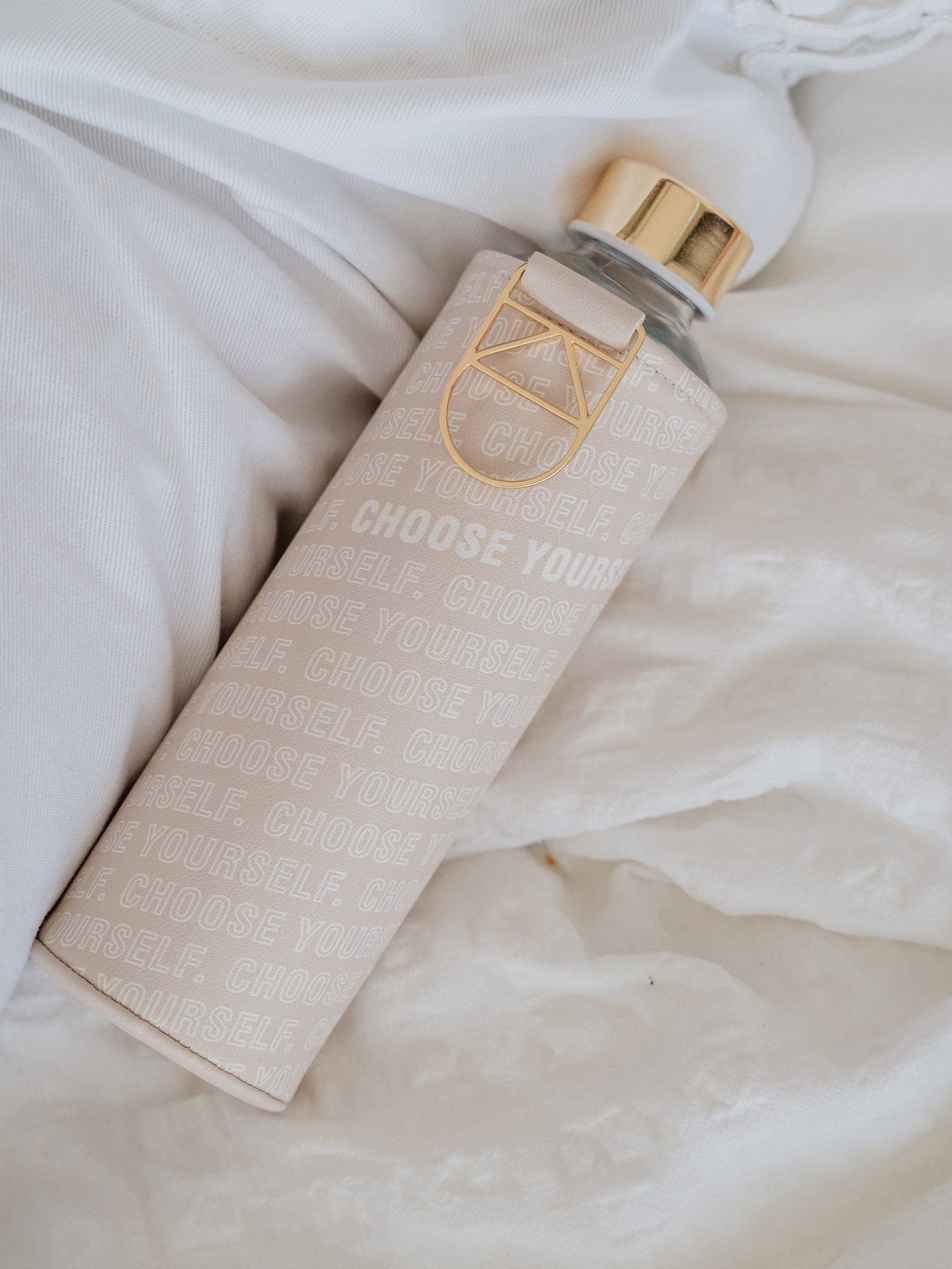gym bottle: (36, 153, 754, 1106)
